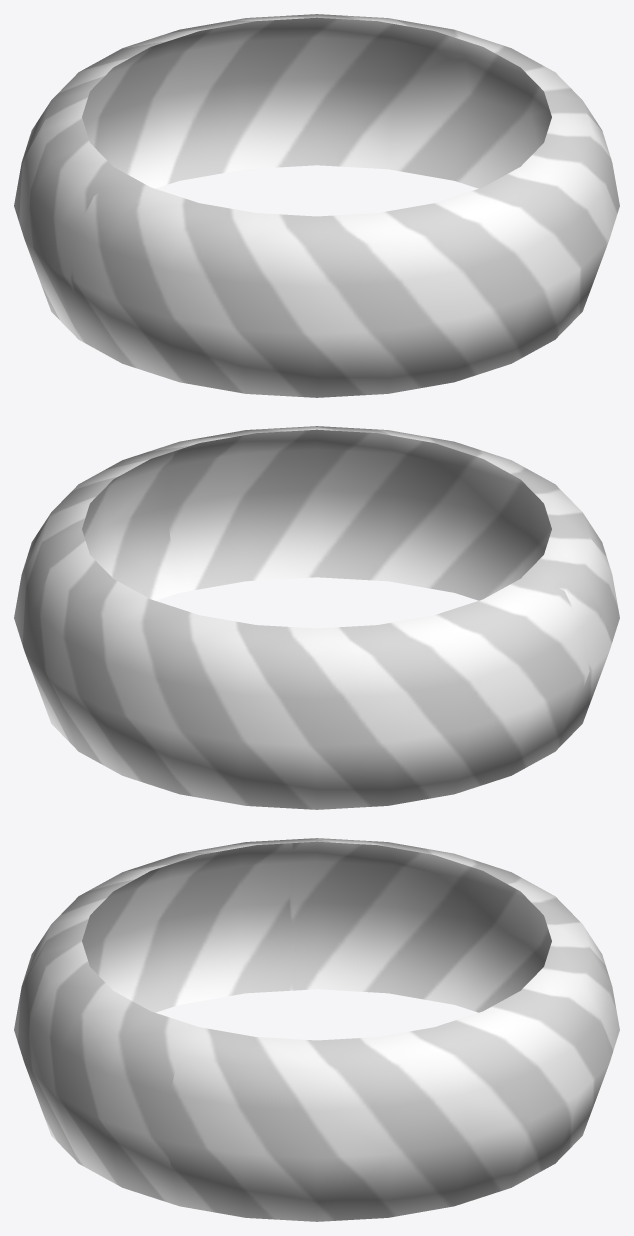
File: ThreadSkein.fbx
3 views of the same model, one above another, from view 1: azimuth 30°, elevation 25°; view 2: azimuth 150°, elevation 25°; view 3: azimuth 270°, elevation 25° (orthographic).
Visible parts, largest first — view 1: _1; view 2: _1; view 3: _1.
Boxes of the visible parts, x1,y1,x2,y2 form: _1: [14, 14, 619, 397]; _1: [14, 426, 619, 809]; _1: [14, 838, 619, 1221].
Bounding box in the file's own units: 68.54 × 20.53 × 68.54.
